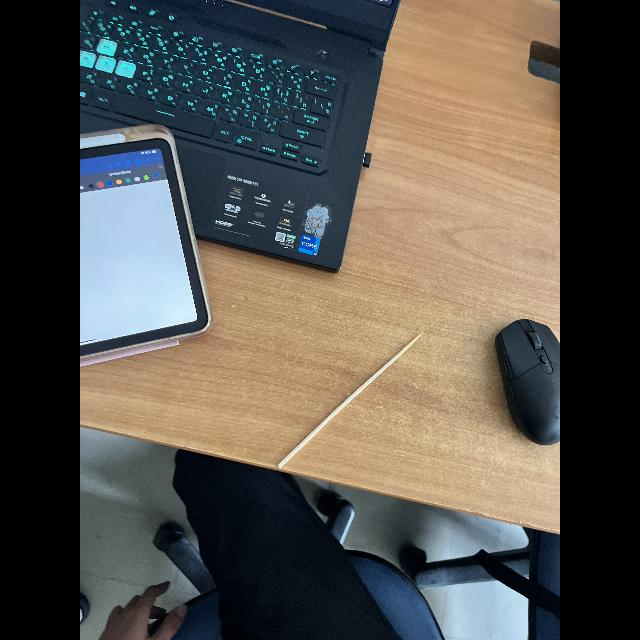stick: (263, 319, 441, 483)
